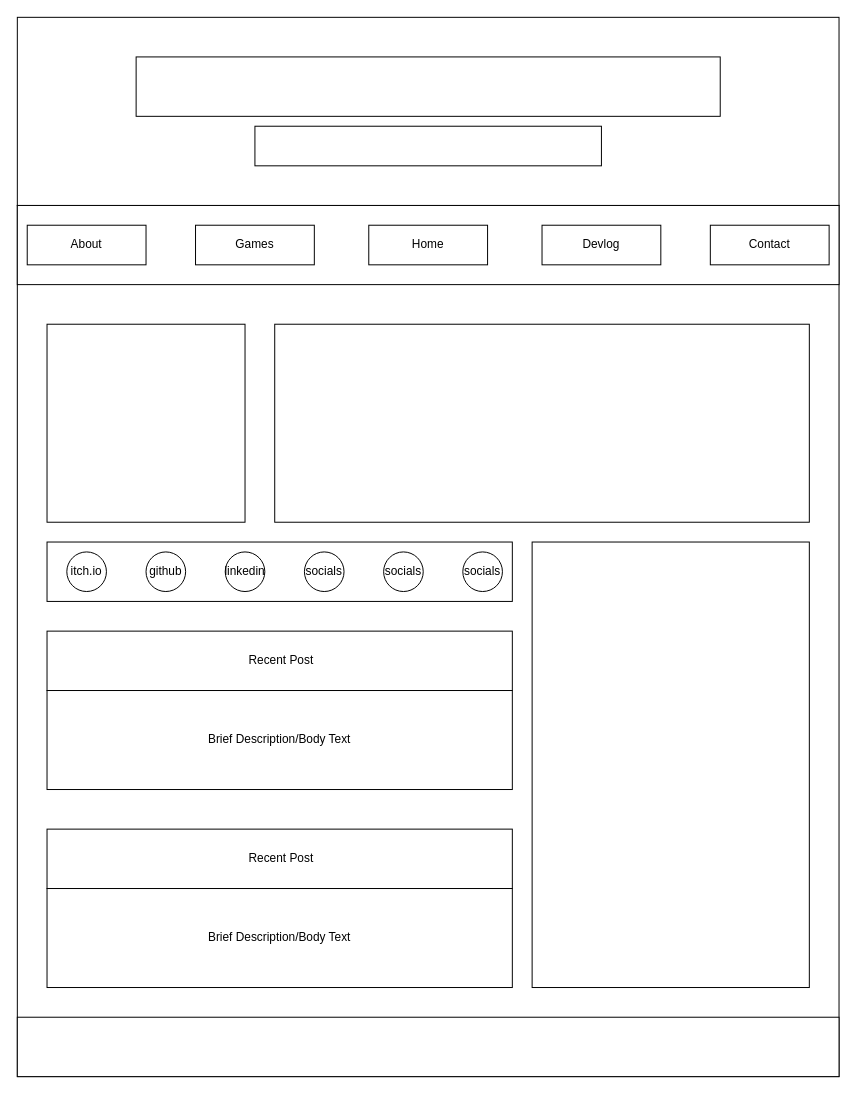
Image size: 856x1094. Some labels were removed from this diagram. Each missing label, with the centre of its shape:
"customizable" goes at point (670, 764).
"Footer" goes at point (427, 1046).
"Home Page Title" goes at point (427, 86).
"Introduction to Homepage" goes at point (541, 422).
"logo/Mascot(?)" goes at point (145, 422).
"Tagline" goes at point (427, 145).
